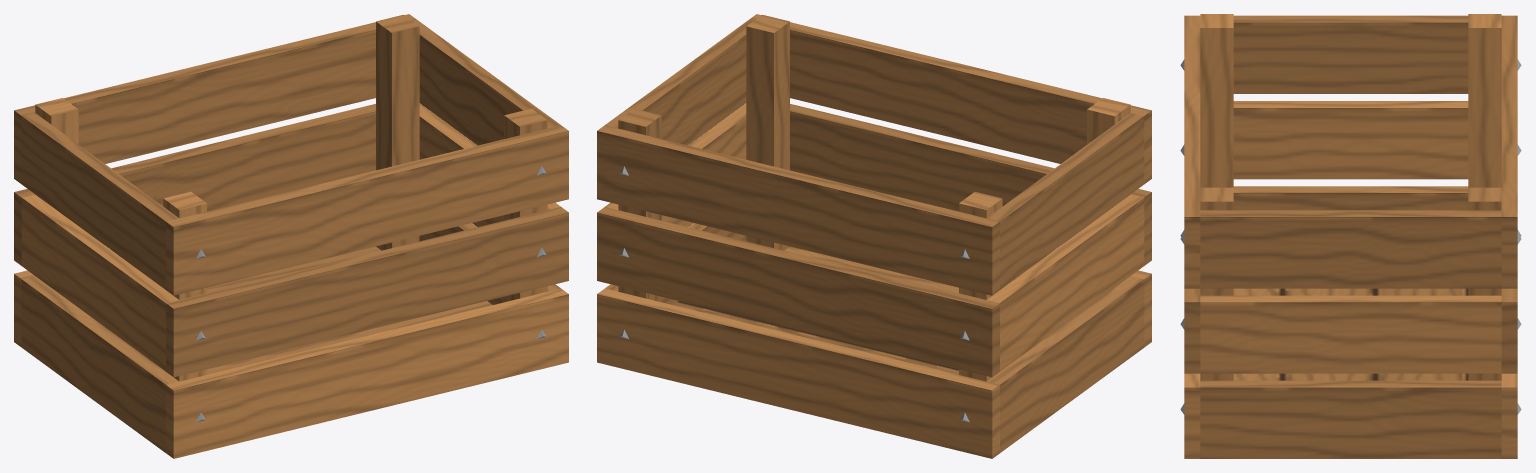
Rendered from FMS_Crate_Slatted_Empty.fbx.
3 views of the same model, side by side, from view 1: azimuth 30°, elevation 25°; view 2: azimuth 150°, elevation 25°; view 3: azimuth 270°, elevation 25° (orthographic). The views are drawn at different scales.
Parts seen in each view (by area): view 1: item_stalls_crate_slatted_empty; view 2: item_stalls_crate_slatted_empty; view 3: item_stalls_crate_slatted_empty.
Boxes of the visible parts, bbox=[...] form: item_stalls_crate_slatted_empty: bbox=[14, 14, 568, 458]; item_stalls_crate_slatted_empty: bbox=[597, 14, 1151, 458]; item_stalls_crate_slatted_empty: bbox=[1180, 14, 1521, 458].
Size of the model in its own units: 0.5 by 0.29 by 0.358.
